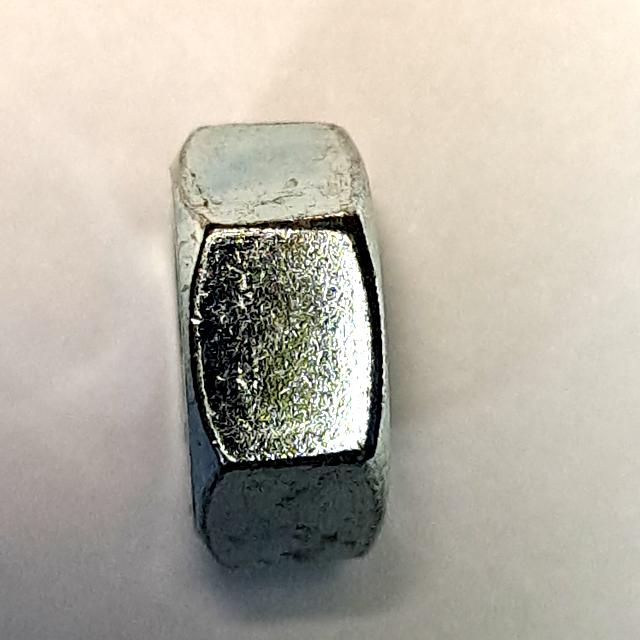Side_Excellent: (143, 104, 424, 587)
